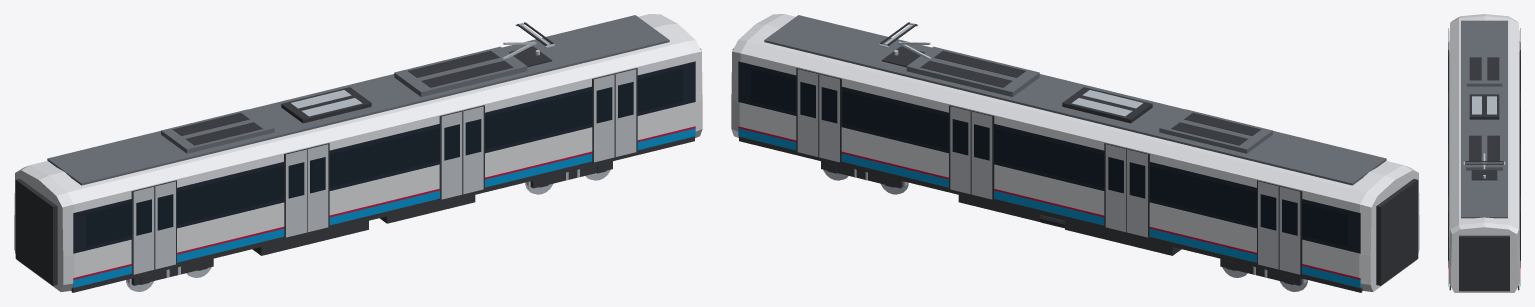
Rendered from rer_b_mi79_car.glb.
The picture shows the model from 3 angles, left to right: view 1: azimuth 30°, elevation 25°; view 2: azimuth 150°, elevation 25°; view 3: azimuth 270°, elevation 25°; orthographic projection. The views are drawn at different scales.
Parts seen in each view (by area): view 1: rer_b_mi79_neutral; view 2: rer_b_mi79_neutral; view 3: rer_b_mi79_neutral.
Boxes of the visible parts, x1,y1,x2,y2 form: rer_b_mi79_neutral: (14, 14, 702, 292); rer_b_mi79_neutral: (731, 14, 1419, 292); rer_b_mi79_neutral: (1448, 14, 1520, 292).
Size of the model in its own units: 20.74 by 4.56 by 2.95.
1 material, 1 textured.
